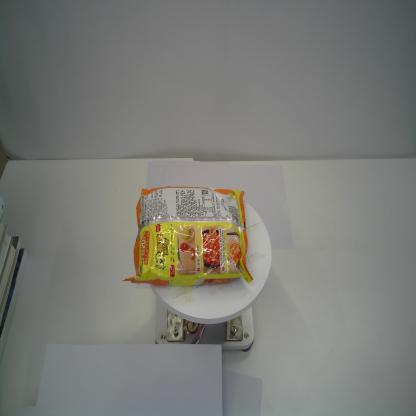Instant Noodles: (121, 186, 254, 287)
